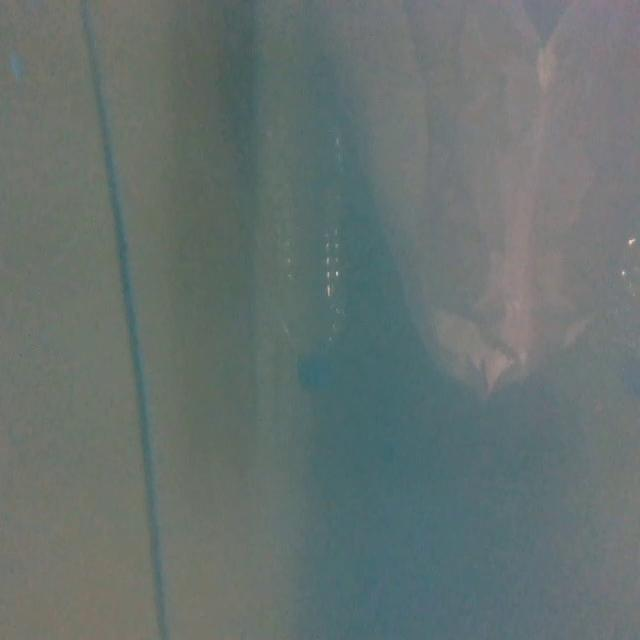plastic bags: (338, 0, 640, 408)
plastic bottle: (273, 142, 348, 398)
